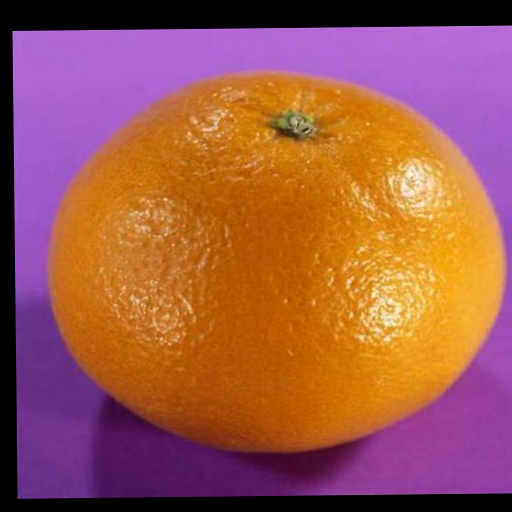fruit: (50, 73, 503, 451)
